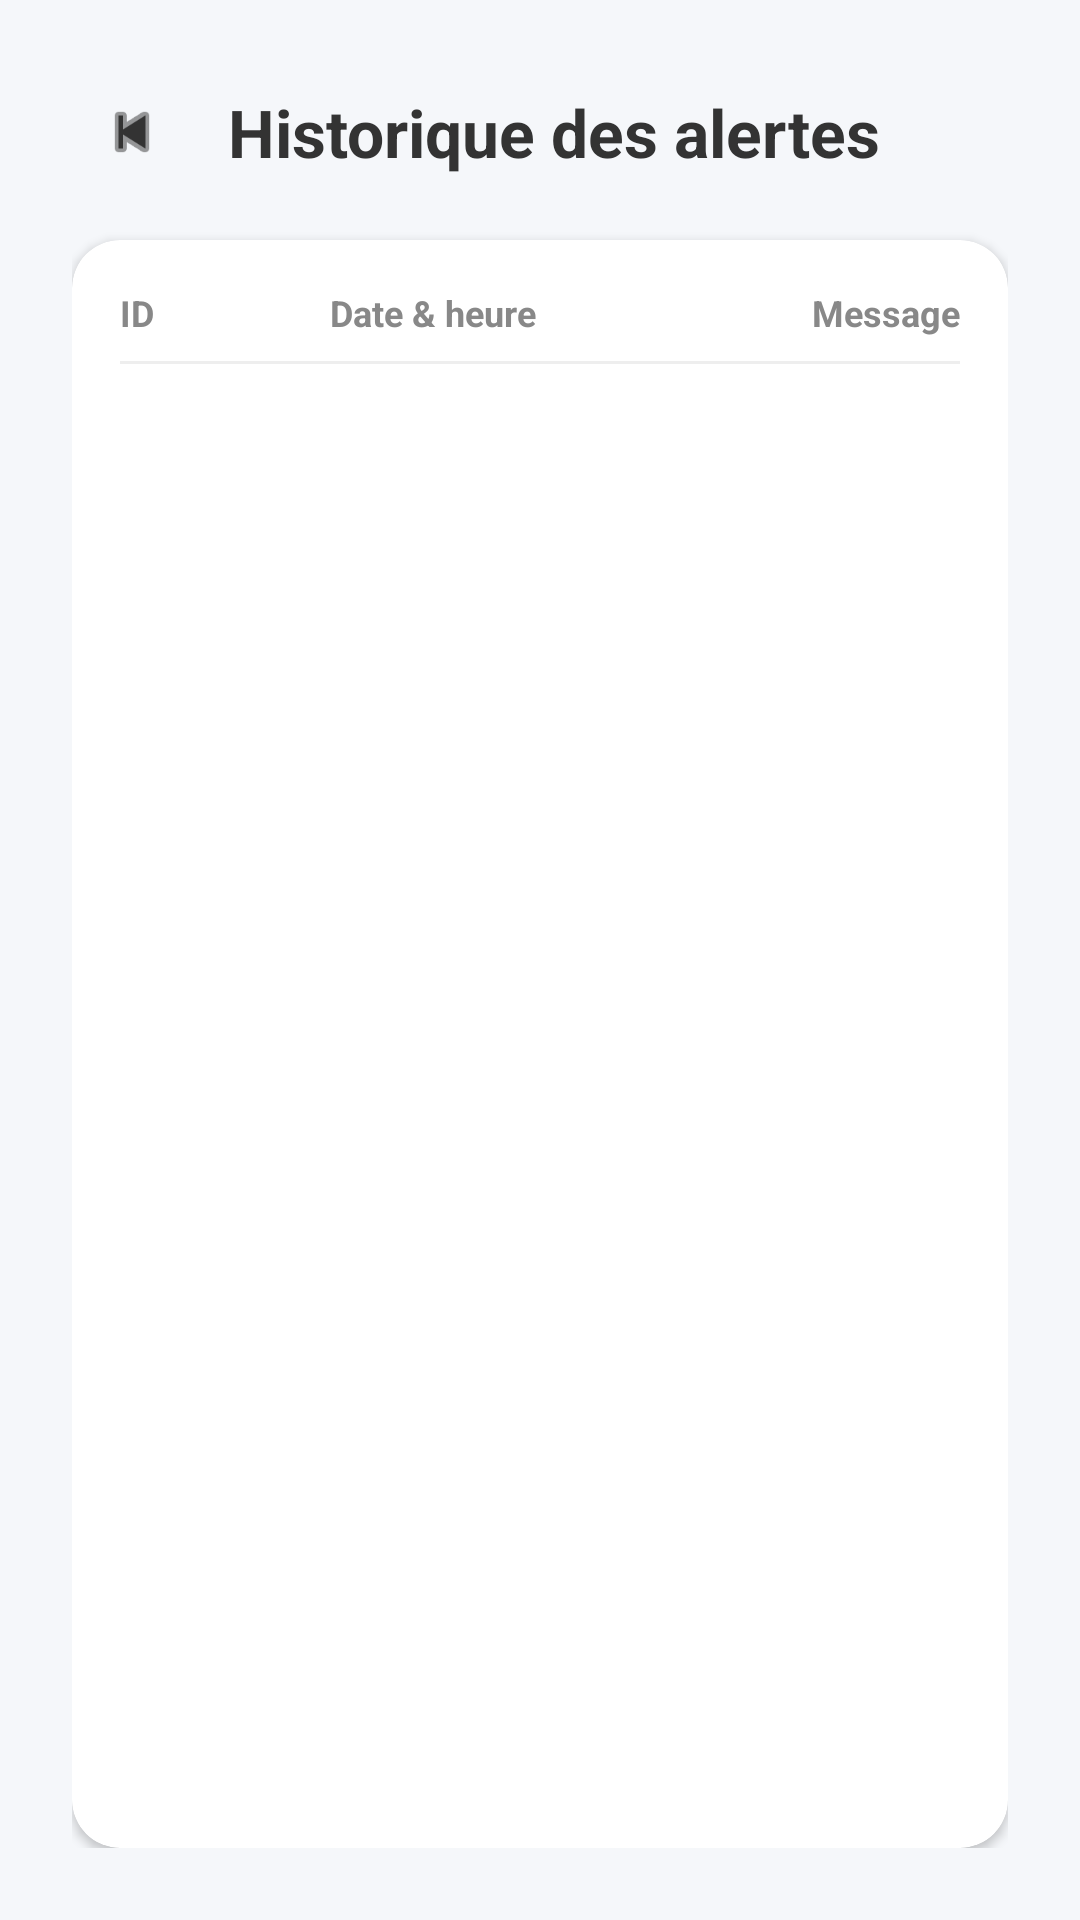

Named icons in this screenshot (1080px x 1920px) and their centers, point (x, y):
previous: point (132, 132)
